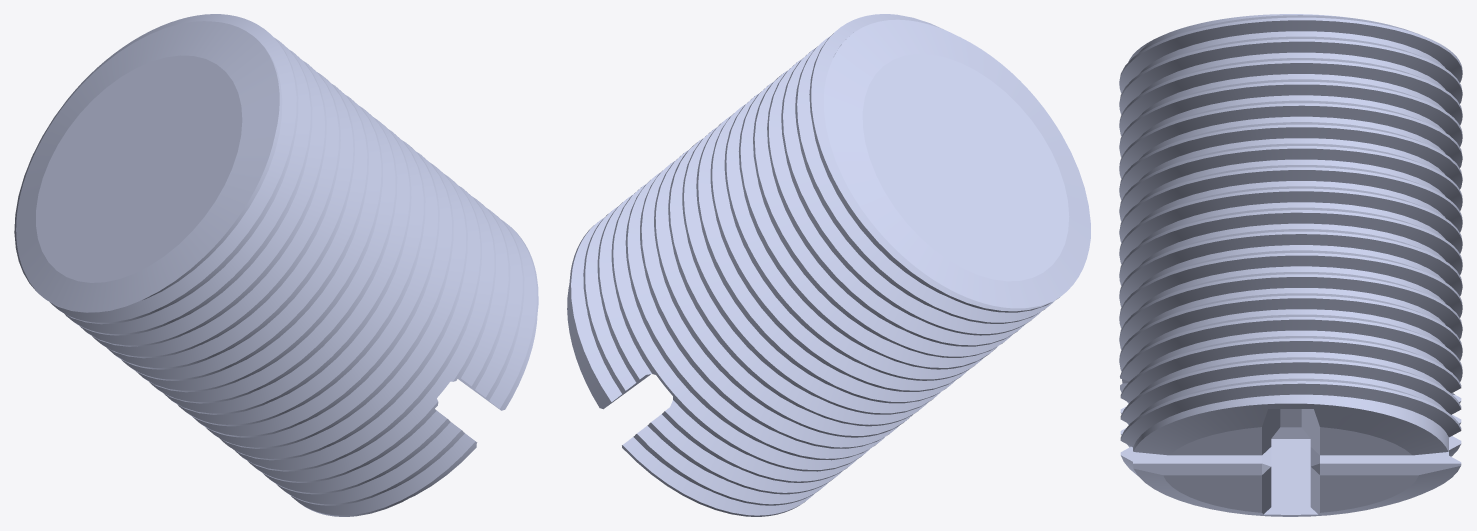
Rendered from body24_visual.obj.
3 views of the same model, side by side, from view 1: azimuth 30°, elevation 25°; view 2: azimuth 150°, elevation 25°; view 3: azimuth 270°, elevation 25° (orthographic).
Parts seen in each view (by area): view 1: Body24; view 2: Body24; view 3: Body24.
Part boxes in pixels (box(x1,y1,x2,y2)): Body24: box(14, 14, 538, 516); Body24: box(567, 14, 1090, 516); Body24: box(1119, 14, 1462, 516).
Bounding box in the file's own units: 0.5811 × 0.5782 × 0.3771.
